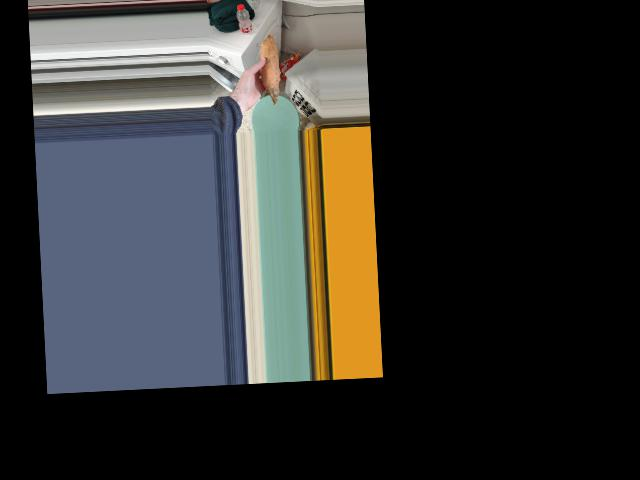sweet_potato: (256, 42, 280, 100)
